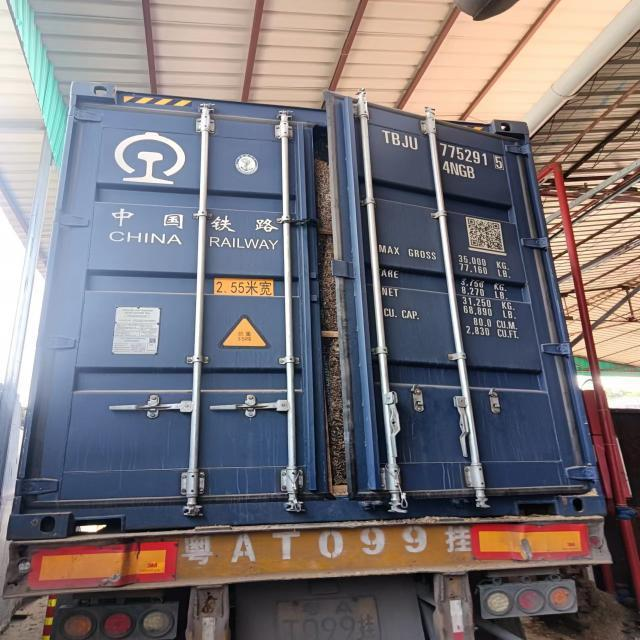ISO: (442, 159, 481, 177)
container_number: (376, 126, 512, 172)
